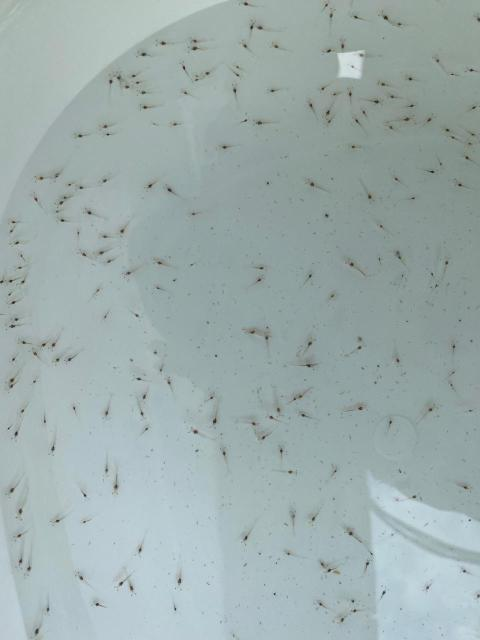benur: (343, 260, 366, 278), (164, 181, 184, 200), (4, 480, 22, 501), (50, 511, 71, 529), (343, 525, 362, 544), (28, 618, 44, 640), (305, 178, 328, 193), (362, 182, 377, 204), (288, 390, 310, 405), (141, 177, 160, 194), (16, 494, 29, 518), (419, 407, 437, 424), (307, 508, 322, 528), (229, 82, 241, 107), (249, 273, 267, 289), (209, 407, 221, 431), (23, 553, 34, 579), (459, 563, 478, 578), (189, 426, 209, 440), (122, 267, 142, 281), (101, 399, 113, 422), (240, 525, 253, 546), (76, 570, 92, 587), (135, 534, 146, 558), (31, 192, 44, 212), (306, 98, 319, 118), (4, 380, 21, 395), (111, 469, 120, 497), (49, 333, 62, 352), (164, 375, 175, 397), (10, 423, 22, 443), (420, 113, 436, 128), (115, 575, 130, 591), (378, 9, 394, 24), (302, 272, 316, 289), (29, 347, 43, 364), (13, 528, 30, 542), (461, 151, 478, 165), (53, 163, 67, 180), (18, 400, 31, 418), (433, 54, 446, 72), (219, 445, 229, 468), (49, 436, 59, 459), (304, 337, 316, 356), (6, 368, 21, 383), (65, 352, 81, 366), (374, 220, 390, 234), (98, 174, 115, 187), (136, 400, 146, 422), (52, 353, 66, 368), (238, 1, 259, 11), (56, 192, 77, 202), (402, 75, 423, 85), (179, 60, 190, 79), (257, 430, 273, 443), (326, 112, 339, 128), (203, 66, 219, 79), (118, 222, 131, 238), (77, 249, 93, 262), (136, 50, 159, 59), (101, 307, 113, 324), (78, 485, 90, 502), (179, 89, 196, 101), (322, 103, 334, 120), (45, 593, 53, 618), (343, 408, 368, 416), (107, 72, 116, 94), (152, 258, 170, 269), (454, 179, 472, 190), (442, 258, 451, 280), (19, 273, 30, 291), (335, 615, 349, 629), (423, 579, 436, 594), (127, 308, 142, 321), (239, 39, 252, 54), (268, 41, 284, 53), (176, 566, 184, 590), (245, 20, 255, 39), (127, 580, 137, 599), (99, 120, 118, 130), (364, 99, 385, 108), (91, 599, 108, 610), (351, 114, 364, 128), (317, 83, 331, 96), (229, 68, 243, 81), (186, 209, 204, 219), (362, 558, 372, 576), (71, 133, 89, 143), (140, 385, 150, 403), (399, 101, 417, 111), (346, 143, 366, 152), (393, 347, 402, 367), (396, 253, 408, 268), (101, 255, 117, 266), (360, 105, 371, 121), (8, 351, 19, 367), (385, 124, 401, 135), (103, 455, 110, 480), (216, 143, 235, 152), (265, 88, 284, 97), (328, 7, 337, 26), (250, 265, 269, 274), (71, 403, 81, 420), (35, 174, 52, 184), (10, 239, 27, 249), (326, 290, 339, 303), (263, 334, 271, 355), (318, 1, 330, 15), (6, 297, 21, 308), (421, 168, 439, 177), (290, 509, 297, 532), (320, 46, 336, 56), (172, 595, 180, 615), (458, 484, 474, 494), (138, 104, 158, 112), (138, 424, 150, 437), (90, 285, 101, 299), (391, 175, 405, 186), (54, 199, 68, 210), (245, 328, 262, 337), (156, 40, 173, 49), (378, 587, 388, 602), (350, 11, 365, 21), (441, 126, 456, 136), (5, 322, 20, 332), (344, 595, 359, 605), (450, 339, 457, 360), (302, 362, 320, 370), (436, 155, 445, 171), (55, 216, 71, 225), (387, 93, 403, 102), (6, 217, 22, 226), (298, 412, 314, 421), (466, 103, 479, 114), (40, 337, 51, 350), (83, 208, 97, 218), (98, 248, 112, 258), (238, 118, 252, 128), (256, 25, 270, 35), (385, 417, 393, 434), (136, 91, 153, 99), (253, 119, 270, 127), (283, 467, 298, 476), (280, 471, 295, 480), (103, 132, 118, 141), (17, 552, 24, 571), (277, 440, 284, 459), (28, 378, 39, 390), (467, 130, 479, 141), (6, 225, 16, 238), (462, 141, 475, 151), (75, 184, 91, 192), (191, 37, 207, 45), (205, 352, 221, 360), (98, 233, 112, 242), (42, 411, 49, 429), (17, 339, 31, 348), (153, 284, 167, 293), (376, 79, 390, 88), (331, 465, 340, 479), (473, 588, 480, 606), (288, 395, 302, 404), (447, 366, 458, 377), (4, 288, 15, 299), (429, 282, 440, 293), (205, 394, 217, 404), (52, 209, 67, 217), (14, 265, 29, 273), (188, 45, 203, 53), (79, 518, 92, 527), (448, 134, 461, 143), (5, 420, 14, 433), (325, 566, 338, 575), (316, 600, 329, 609), (65, 179, 78, 188), (120, 83, 133, 92), (265, 413, 278, 422), (404, 194, 418, 202), (170, 119, 184, 127), (133, 376, 147, 384), (449, 380, 457, 394), (348, 606, 364, 613), (395, 22, 409, 30), (233, 63, 245, 72), (376, 253, 383, 268), (473, 12, 480, 27), (0, 271, 7, 286), (448, 71, 461, 79), (467, 67, 480, 75), (19, 249, 27, 262), (130, 72, 143, 80), (340, 36, 346, 53), (250, 420, 261, 429), (284, 550, 296, 558), (158, 361, 164, 376), (348, 63, 357, 73), (74, 227, 80, 242), (194, 448, 205, 456), (187, 262, 198, 270), (318, 559, 326, 570), (6, 278, 17, 286), (367, 548, 375, 559), (396, 468, 407, 476), (331, 92, 343, 99), (322, 212, 331, 221), (356, 342, 366, 350), (404, 115, 415, 122), (353, 50, 364, 57), (429, 269, 435, 281), (346, 87, 353, 97), (392, 496, 402, 503), (408, 493, 418, 500), (115, 71, 122, 81), (133, 79, 144, 85), (464, 409, 475, 415), (9, 317, 18, 324), (152, 120, 160, 127), (171, 277, 179, 284), (191, 78, 202, 83), (192, 73, 201, 79), (336, 578, 343, 585), (0, 312, 5, 318)
